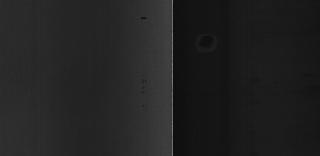oil spot: (136, 74, 150, 108), (134, 12, 152, 24)
